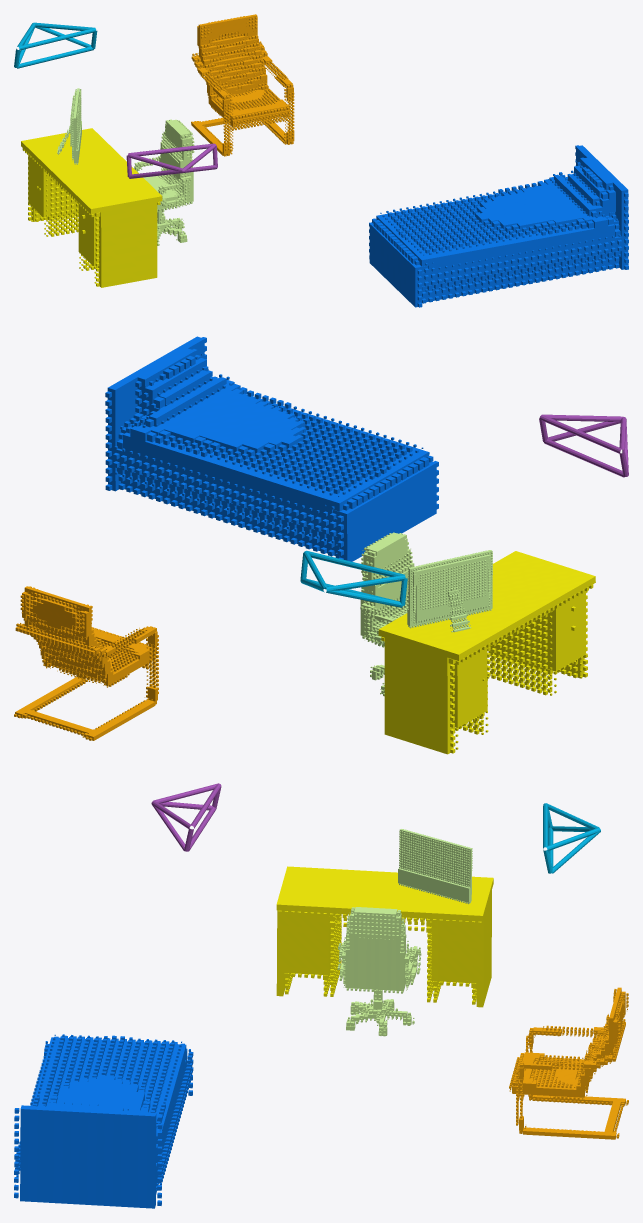
The picture shows the model from 3 angles, top to bottom: view 1: azimuth 30°, elevation 25°; view 2: azimuth 150°, elevation 25°; view 3: azimuth 270°, elevation 25°; orthographic projection. The views are drawn at different scales.
Visible parts, largest first — view 1: Node; view 2: Node; view 3: Node.
Boxes of the visible parts, box(x1,y1,x2,y2) form: Node: box(14, 14, 628, 307); Node: box(14, 336, 628, 754); Node: box(14, 783, 628, 1208).
Size of the model in its own units: 4.53 by 1.56 by 4.73.
